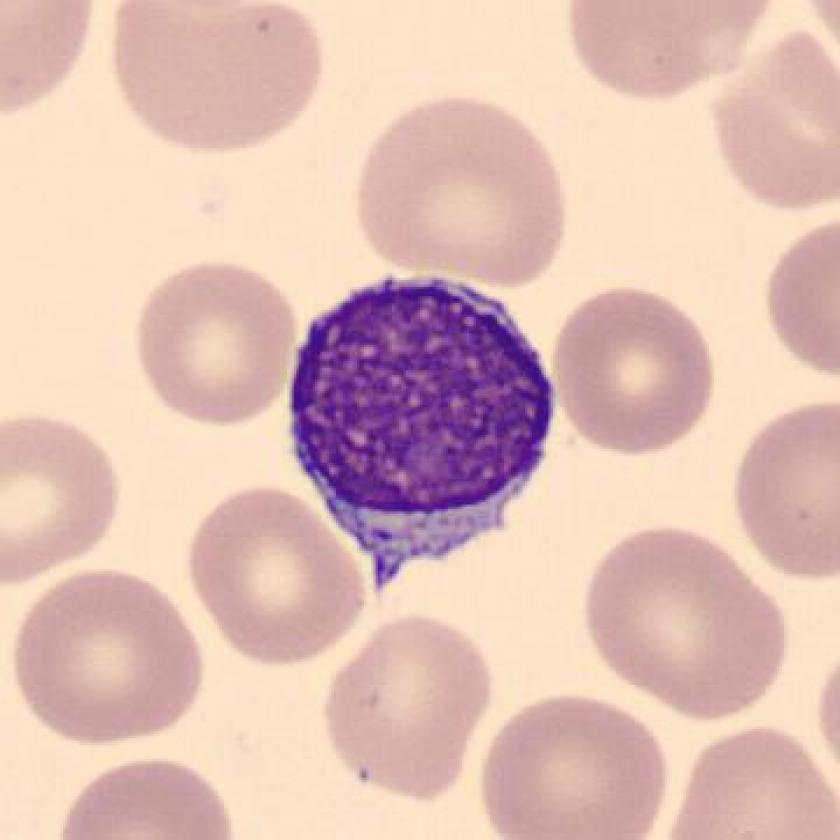lymphocyte: (276, 260, 573, 621)
